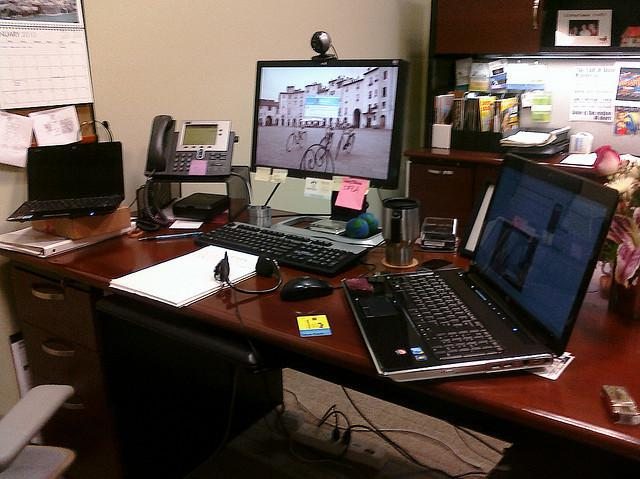tv: (391, 171, 604, 385), (254, 59, 409, 250)
